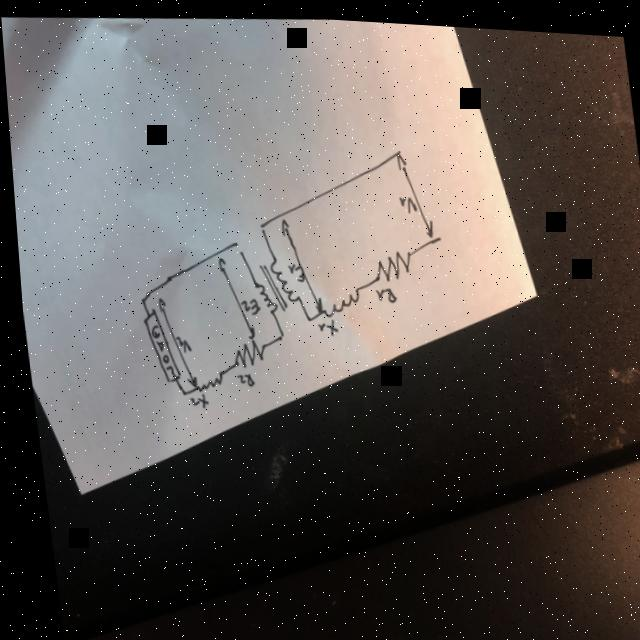inductor: (314, 280, 358, 316), (188, 365, 219, 393)
junction: (227, 237, 241, 254), (133, 294, 143, 304), (173, 384, 183, 394), (254, 219, 263, 230), (299, 309, 308, 320), (271, 327, 280, 338)
resistor: (134, 304, 175, 385), (369, 243, 409, 279), (224, 334, 260, 368)
terminal: (431, 229, 438, 237), (392, 144, 399, 152)
text: (143, 320, 170, 376), (235, 294, 257, 314), (312, 314, 334, 334), (283, 258, 301, 282), (370, 282, 394, 300), (395, 190, 415, 210), (181, 390, 203, 407), (169, 332, 187, 352), (230, 369, 249, 386)
transformer: (246, 251, 296, 313)
